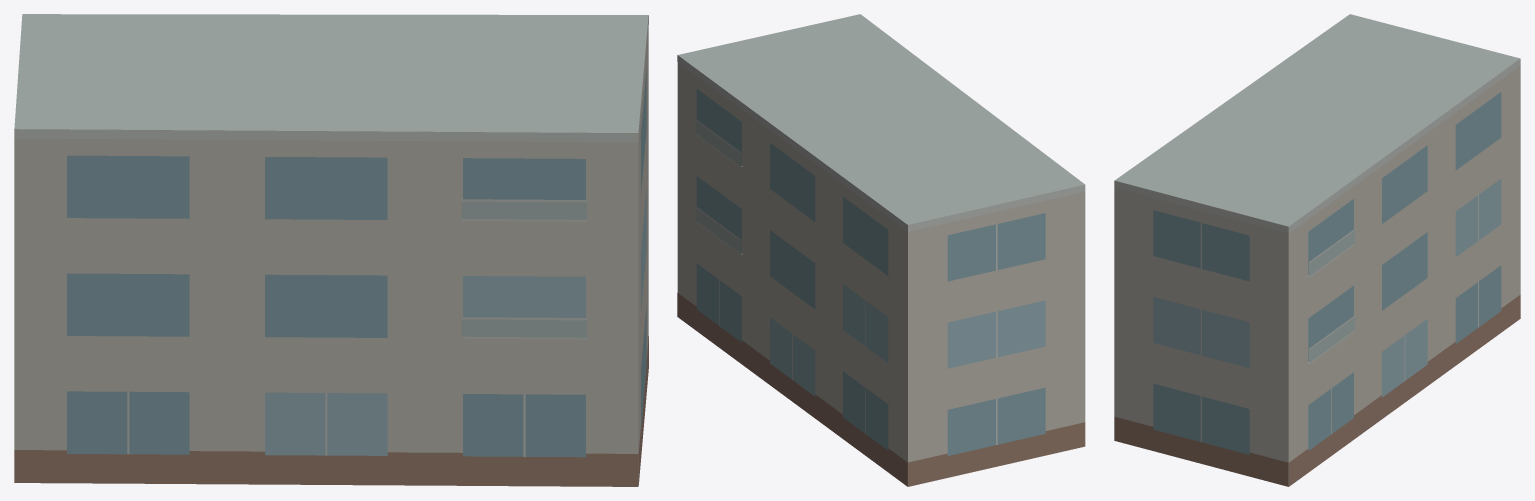
The model's file is survey-upis-32907205.glb.
3 views of the same model, side by side, from view 1: azimuth 30°, elevation 25°; view 2: azimuth 150°, elevation 25°; view 3: azimuth 270°, elevation 25° (orthographic). The views are drawn at different scales.
Visible parts, largest first — view 1: survey-upis-32907205.tmp; view 2: survey-upis-32907205.tmp; view 3: survey-upis-32907205.tmp.
Part boxes in pixels (x1,y1,x2,y2): survey-upis-32907205.tmp: (14,14,648,486); survey-upis-32907205.tmp: (677,14,1085,486); survey-upis-32907205.tmp: (1114,14,1520,486).
Bounding box in the file's own units: 16.05 × 9.15 × 12.95.
